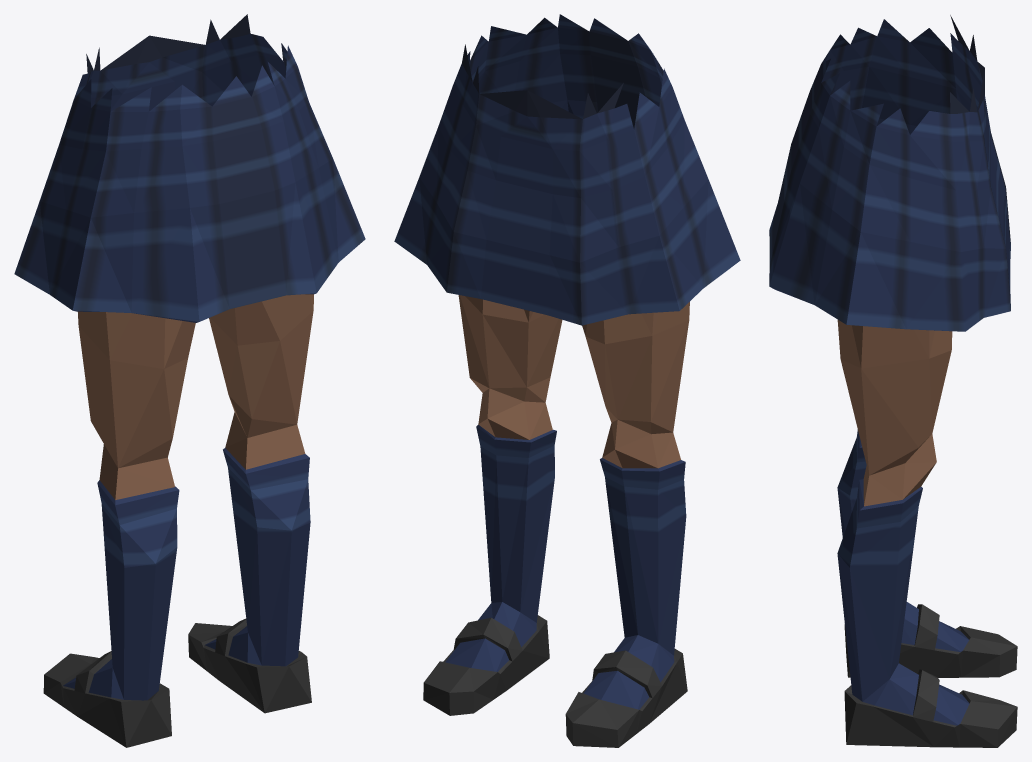
File: Legs.obj
The picture shows the model from 3 angles, left to right: view 1: azimuth 30°, elevation 25°; view 2: azimuth 150°, elevation 25°; view 3: azimuth 270°, elevation 25°; orthographic projection.
Size of the model in its own units: 0.4889 by 1.04 by 0.3621.
1 material, 1 textured.
